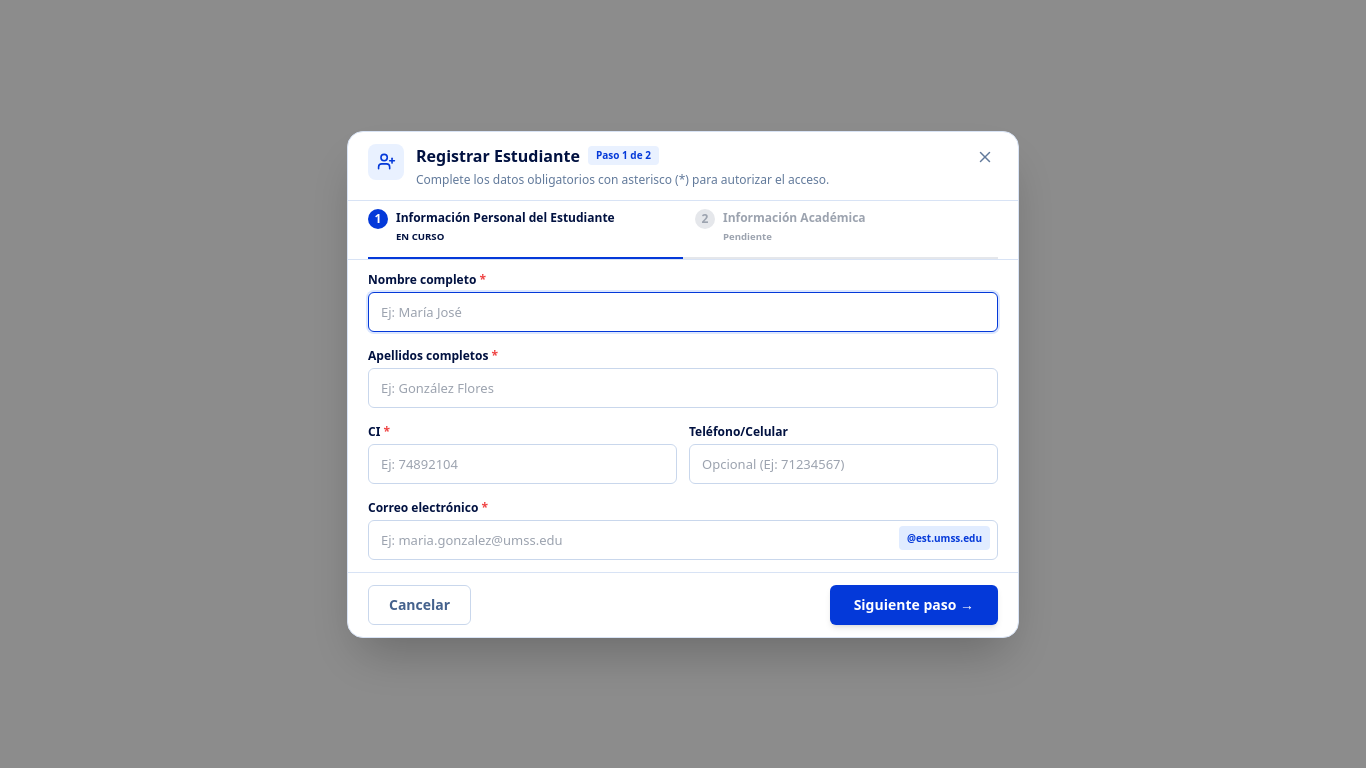
Test: RegistrarEstudianteModal › valida los campos obligatorios del primer paso mostrando un error a la vez
Primer intento → modal con el error del Nombre
Click the button "Siguiente paso →": coordinates (914, 604) x1=830 y1=584 x2=998 y2=624
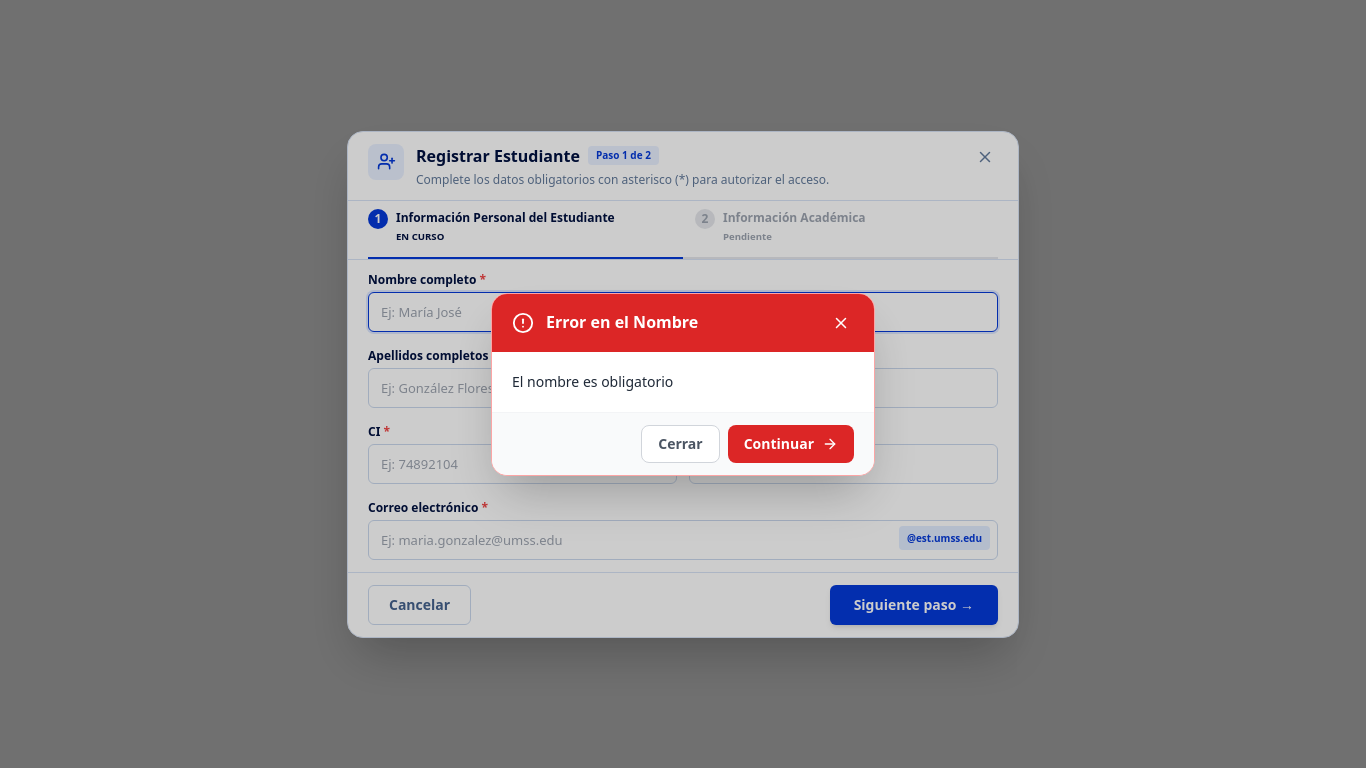
Now the heading "Error en el Nombre" is shown, box x1=546 y1=310 x2=698 y2=334
Now the text "El nombre es obligatorio" is shown, box x1=512 y1=372 x2=673 y2=390
Cierra el modal
Click the button "Continuar": coordinates (791, 444) x1=728 y1=424 x2=854 y2=462
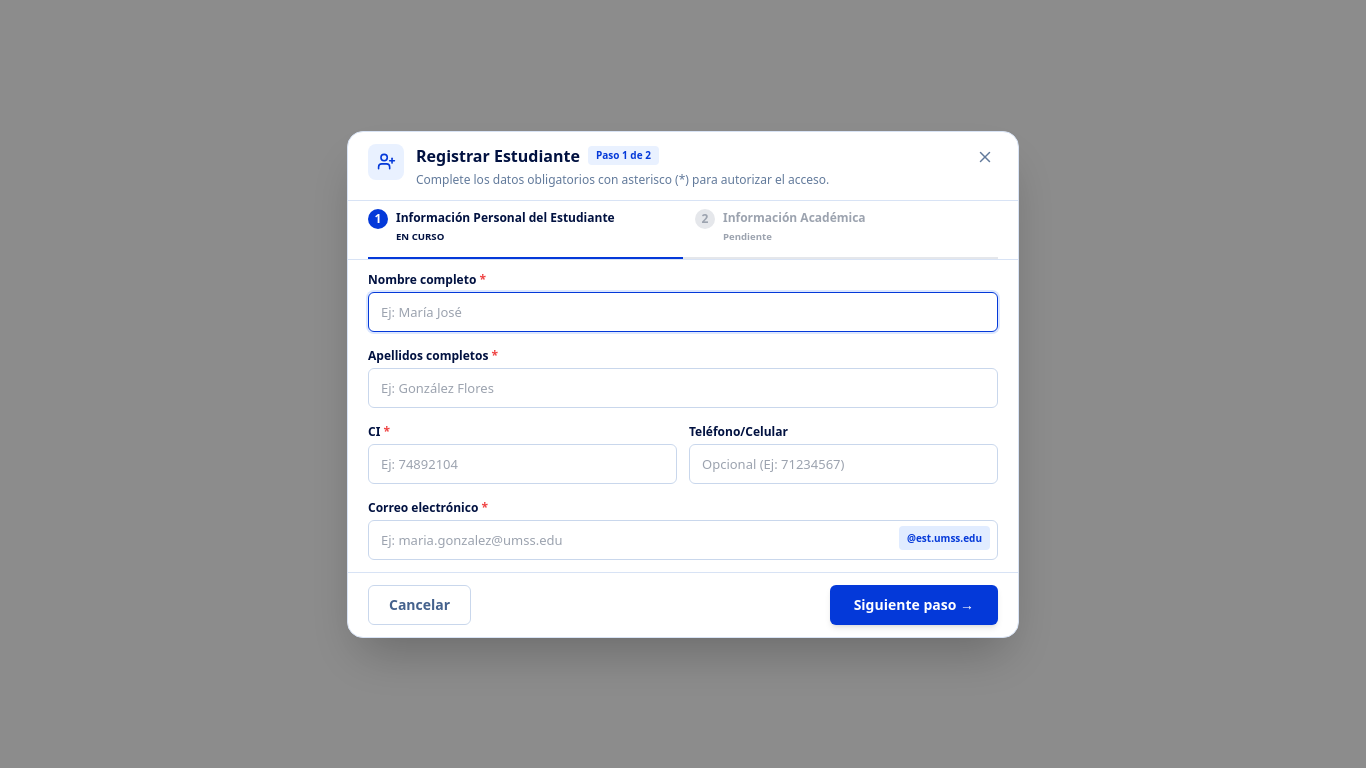
Now the heading "Error en el Nombre" is gone
Rellena nombre y reintenta → modal con el error de Apellidos
In the field with placeholder "Ej: María José": coordinates (683, 312) x1=368 y1=292 x2=998 y2=332, type "María"
Click the button "Siguiente paso →": coordinates (914, 604) x1=830 y1=584 x2=998 y2=624
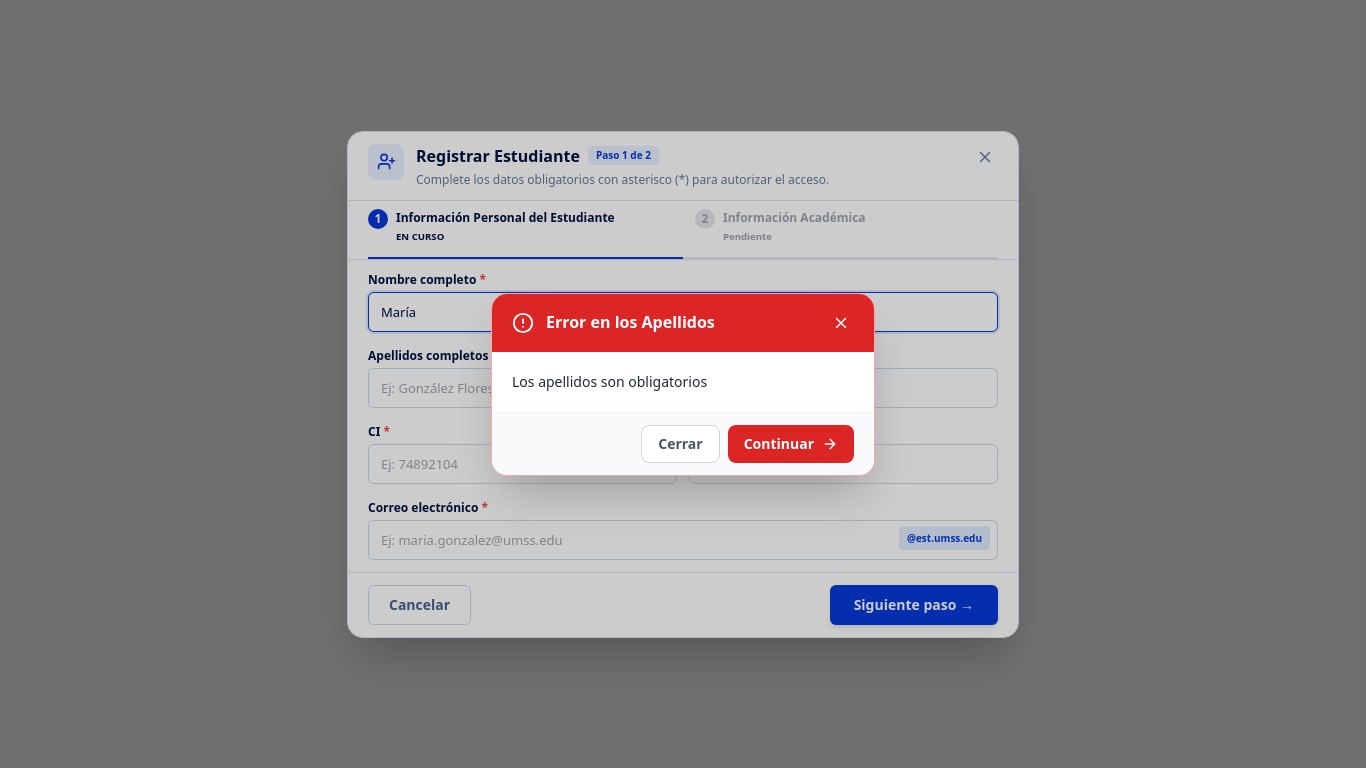
Now the heading "Error en los Apellidos" is shown, box x1=546 y1=310 x2=715 y2=334
Now the text "Los apellidos son obligatorios" is shown, box x1=512 y1=372 x2=707 y2=390
Cierra el modal
Click the button "Continuar": coordinates (791, 444) x1=728 y1=424 x2=854 y2=462
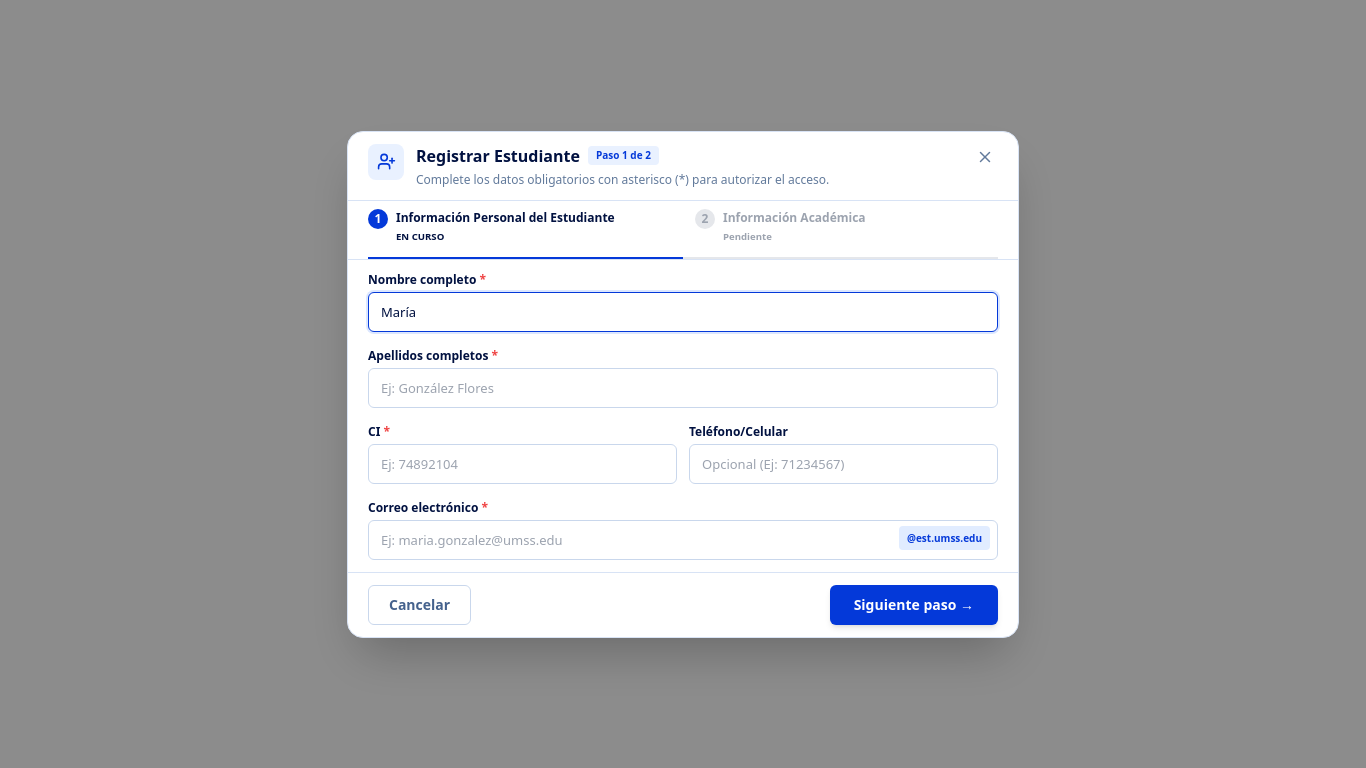
Rellena apellidos y reintenta → modal con el error del CI
In the field with placeholder "Ej: González Flores": coordinates (683, 388) x1=368 y1=368 x2=998 y2=408, type "González"
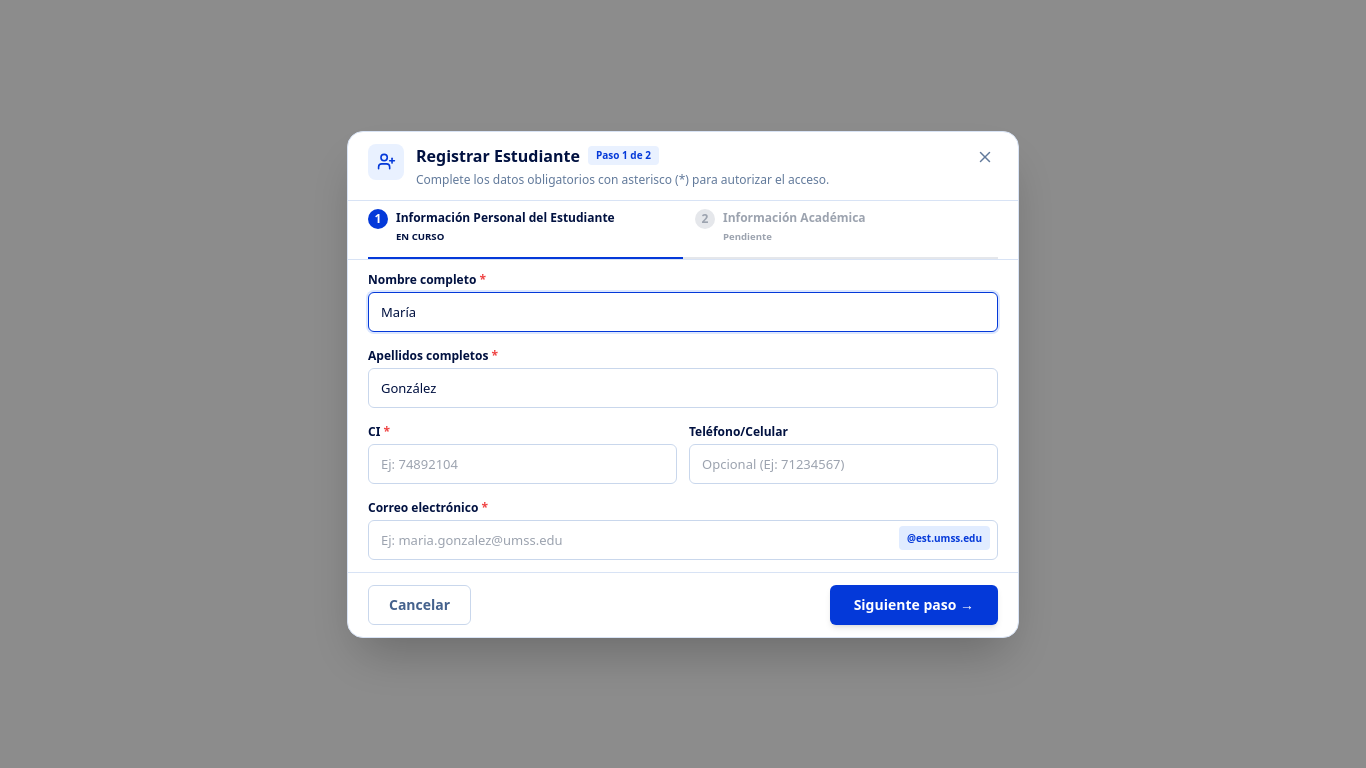
Click the button "Siguiente paso →": coordinates (914, 604) x1=830 y1=584 x2=998 y2=624
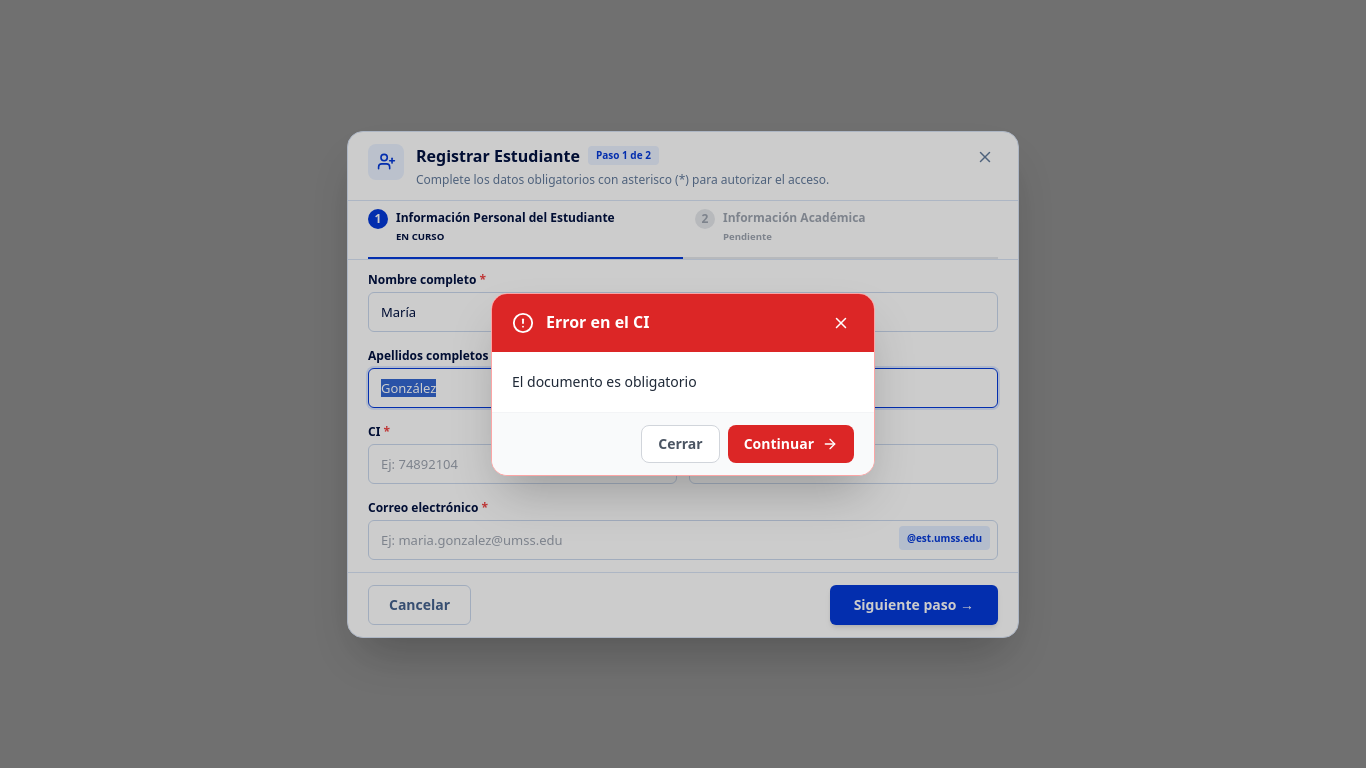
Now the heading "Error en el CI" is shown, box x1=546 y1=310 x2=650 y2=334
Now the text "El documento es obligatorio" is shown, box x1=512 y1=372 x2=697 y2=390
